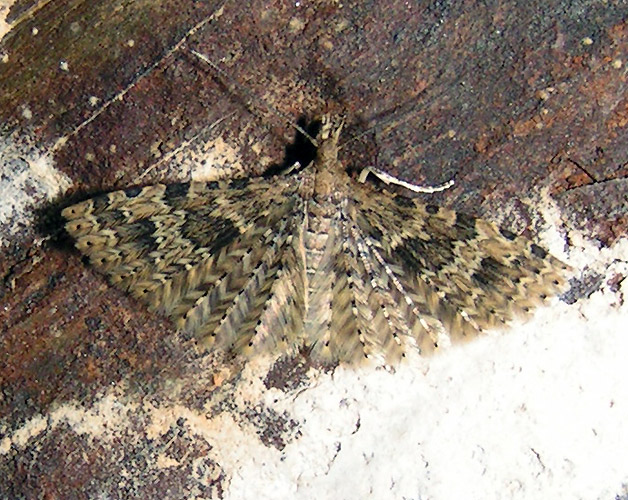Alucitidae: (59, 38, 577, 382)
moth: (57, 36, 575, 380)
